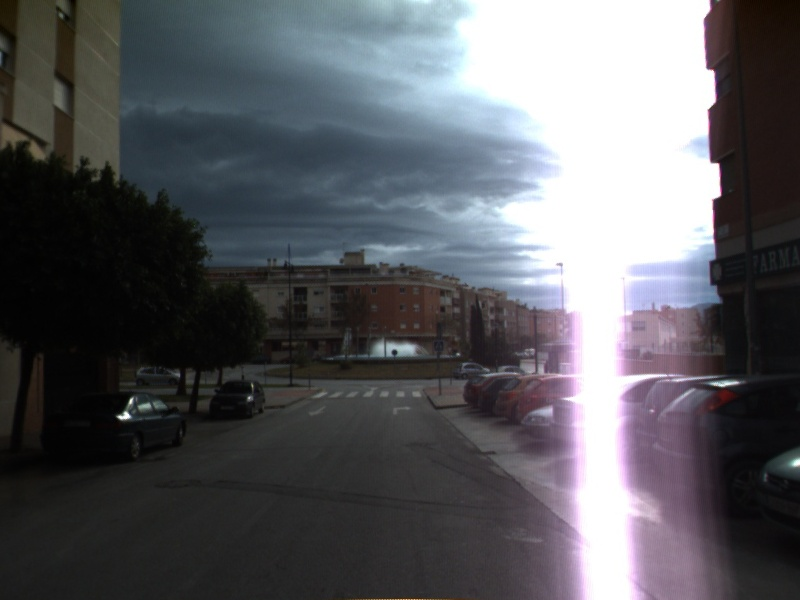RIGHT: (391, 403, 413, 417)
